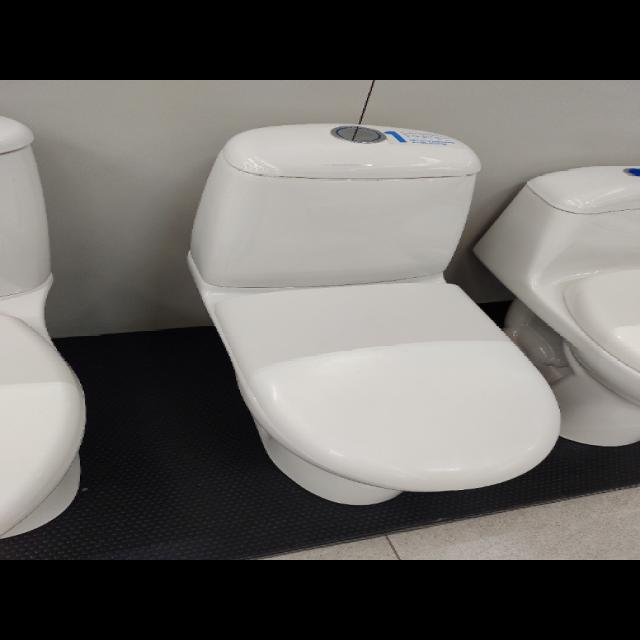toilet: (186, 122, 562, 506), (471, 164, 639, 446), (0, 113, 86, 539)
